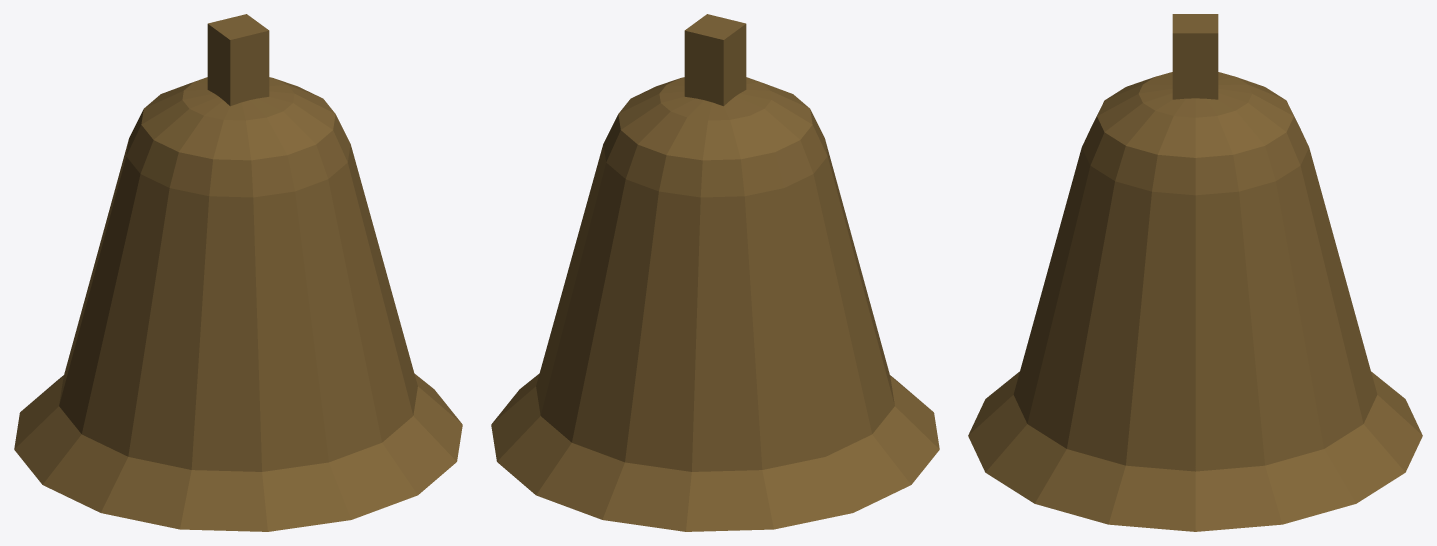
Rendered from bell.fbx.
The picture shows the model from 3 angles, left to right: view 1: azimuth 30°, elevation 25°; view 2: azimuth 150°, elevation 25°; view 3: azimuth 270°, elevation 25°; orthographic projection.
Parts seen in each view (by area): view 1: bell; view 2: bell; view 3: bell.
Boxes of the visible parts, bbox=[...] form: bell: bbox=[14, 14, 462, 531]; bell: bbox=[491, 14, 939, 531]; bell: bbox=[968, 14, 1422, 531].
Size of the model in its own units: 600 by 600 by 600.
